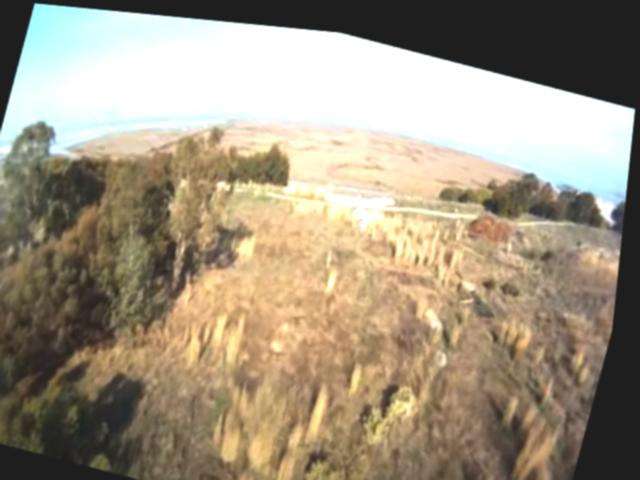uav: (315, 161, 404, 230)
